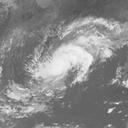cyclone: (25, 42, 95, 93)
